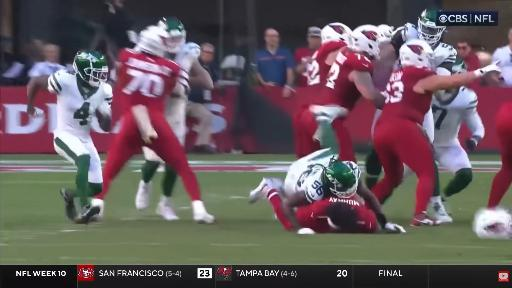Helmet: (322, 158, 359, 198), (73, 51, 108, 87), (473, 208, 511, 239), (348, 25, 381, 58), (135, 26, 168, 57), (399, 40, 434, 69), (418, 9, 446, 45), (158, 17, 186, 53), (321, 23, 351, 43), (378, 24, 394, 42), (453, 58, 467, 73)
Jersey: (48, 71, 112, 140), (115, 49, 179, 113), (312, 51, 373, 110), (378, 67, 435, 125), (295, 195, 378, 233), (432, 87, 483, 146), (286, 149, 337, 202), (307, 40, 346, 85), (295, 201, 332, 233), (392, 23, 419, 56), (392, 23, 419, 55), (165, 95, 187, 129)
Player: (372, 40, 499, 225), (95, 26, 214, 223), (27, 51, 112, 223), (250, 148, 404, 233), (294, 25, 383, 161), (432, 87, 484, 197), (382, 9, 456, 75), (295, 198, 405, 234), (158, 18, 213, 89), (308, 23, 351, 92), (308, 23, 351, 85), (488, 102, 511, 207), (473, 208, 511, 239)
